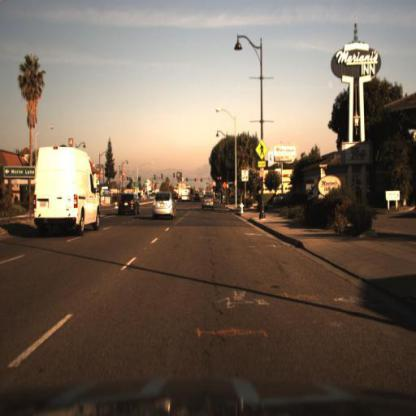car: (32, 144, 103, 242), (153, 189, 178, 222), (116, 189, 142, 220), (200, 190, 218, 213), (187, 193, 199, 213), (180, 188, 194, 204)
truck: (32, 144, 101, 233), (180, 185, 193, 205)
